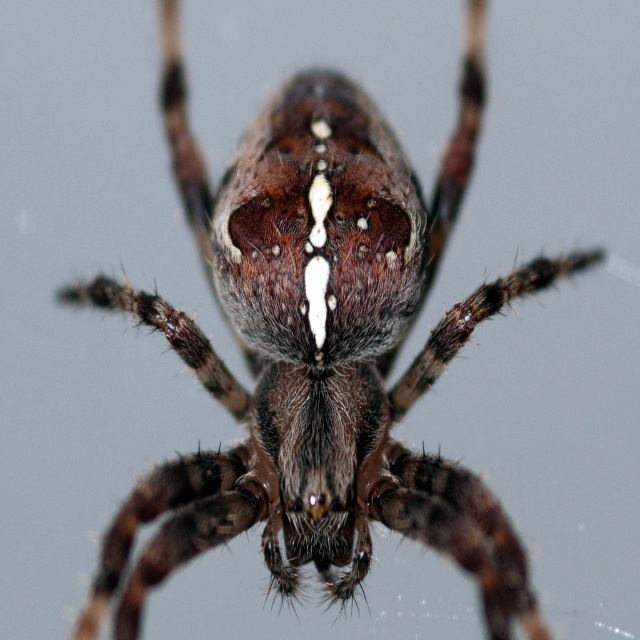Spider: (52, 0, 610, 640)
